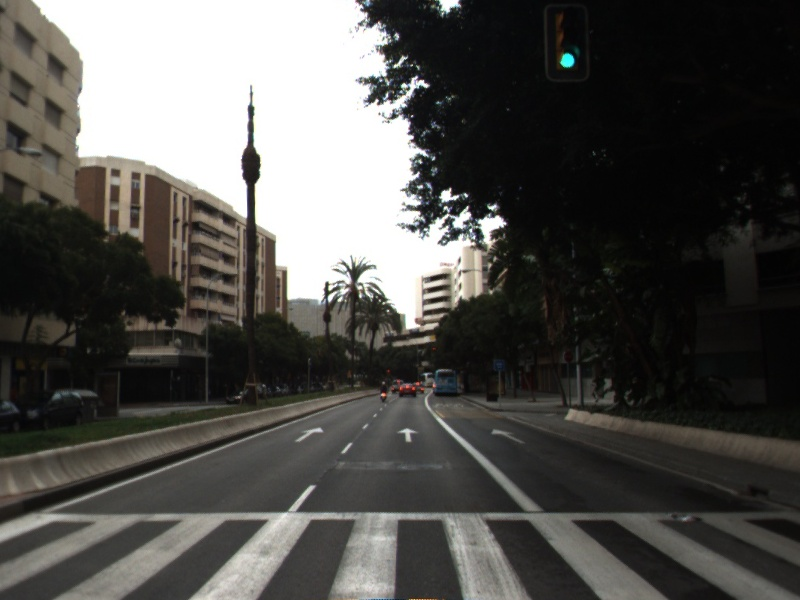STRAIGHT: (489, 427, 527, 445), (292, 425, 325, 444), (395, 426, 420, 444)
